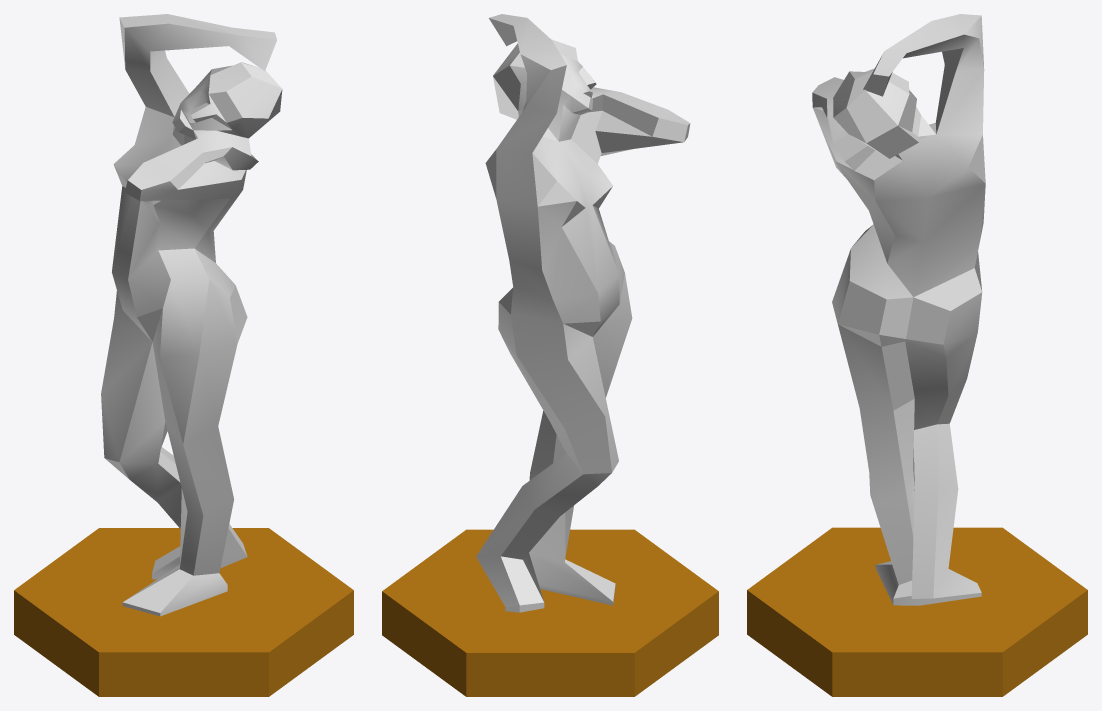
Rendered from tuong3.fbx.
The picture shows the model from 3 angles, left to right: view 1: azimuth 30°, elevation 25°; view 2: azimuth 150°, elevation 25°; view 3: azimuth 270°, elevation 25°; orthographic projection.
Parts seen in each view (by area): view 1: tuong3; view 2: tuong3; view 3: tuong3.
Boxes of the visible parts, box(x1,y1,x2,y2) form: tuong3: box(14, 14, 353, 696); tuong3: box(382, 14, 718, 696); tuong3: box(747, 14, 1087, 696).
Bounding box in the file's own units: 173 × 395 × 200.
